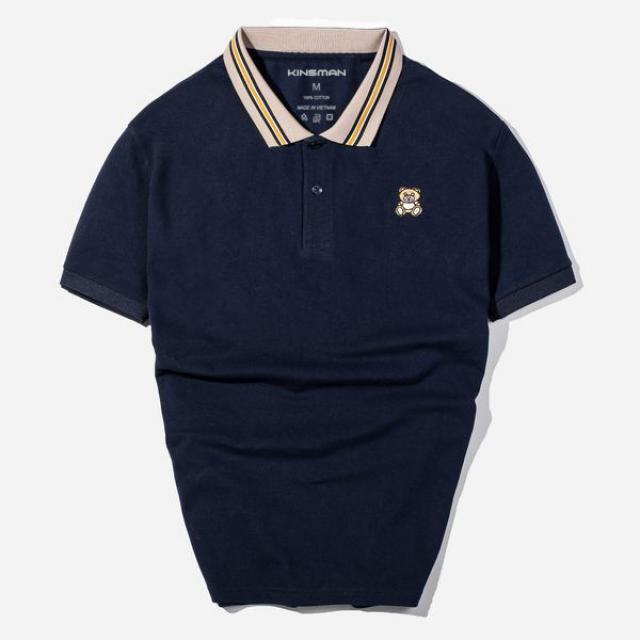Shirt: (58, 26, 582, 620)
